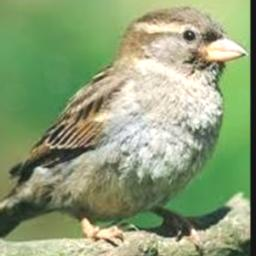Sparrow: (0, 6, 248, 251)
